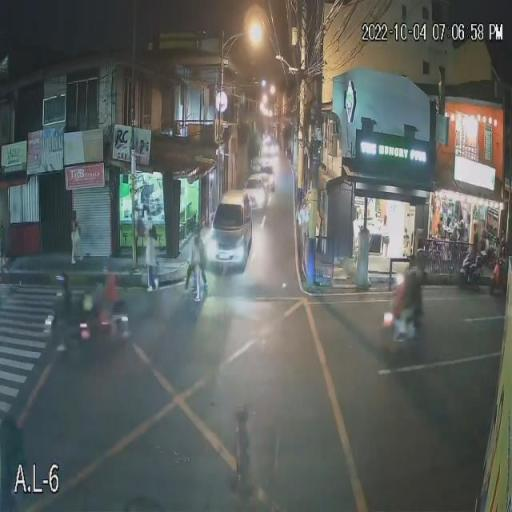helmet: (402, 266, 422, 288), (53, 269, 75, 288)
motorcycle: (376, 302, 432, 346), (43, 305, 89, 351), (87, 302, 141, 340)
rider: (98, 258, 130, 315), (52, 264, 77, 322), (403, 254, 427, 311)
